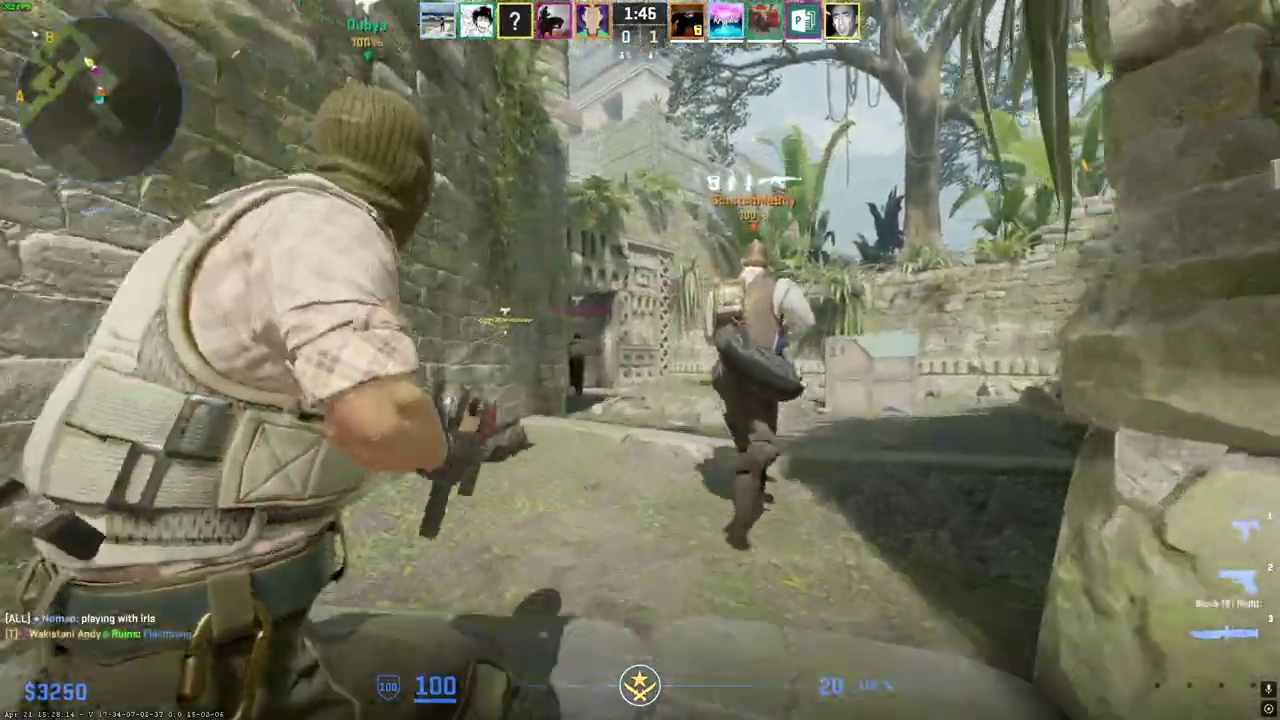Terrorist: (37, 83, 428, 720), (698, 238, 811, 551), (564, 332, 590, 395)
